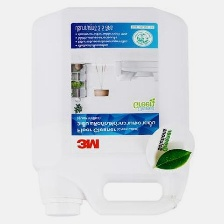cleaning_solution: (26, 2, 196, 220)
